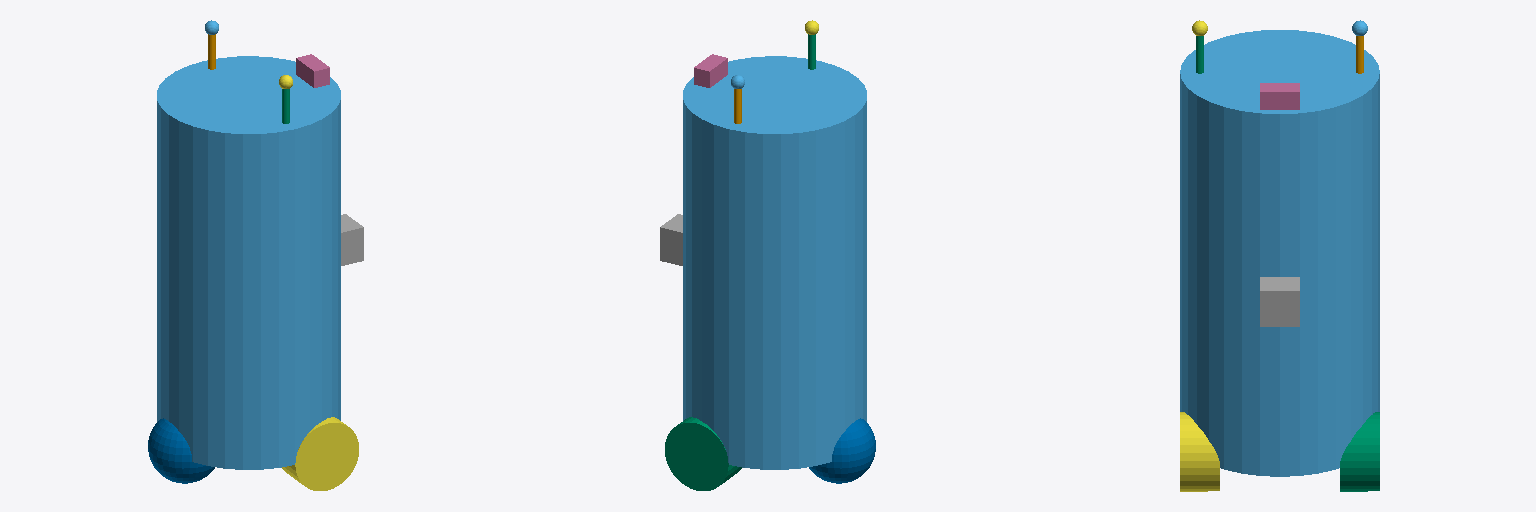
URDF robot description (mooncake):

<robot name="mooncake">

<link name="base_footprint"/>

<link name="base_link">
	<pose> 0 0 0 0 0 0</pose>
	<collision>
      		<origin xyz="0 0 0.5" rpy="0 0 0" />
      		<geometry>
        		<cylinder length="1" radius="0.25"/>
      		</geometry>
      	</collision>
        <visual>
          <origin xyz="0 0 0.5" rpy="0 0 0" />
          <geometry>
            	<cylinder length="1" radius="0.25"/>
          </geometry>
          <material name="blue"/>
        </visual>
        <inertial>
           	<mass value="5" />
            	<origin xyz="0 0 0.5" rpy="0 0 0" />
            	<inertia ixx="0.49" ixy="0" ixz="0" 
            	iyy="0.49" iyz="0" 
            	izz="0.16" />
       </inertial>
      </link>
      
      <link name="left_Wheel">
	<collision>
      		<geometry>
        		<cylinder length="0.1" radius="0.1"/>
      		</geometry>
			<surface>
             <contact>
              <ode>
                <soft_cfm>0</soft_cfm>
                <soft_erp>0.2</soft_erp>
                <kp>1e+5</kp>
                <kd>1</kd>
                <max_vel>0.01</max_vel>
                <min_depth>0.001</min_depth>
              </ode>
             </contact>
            </surface>
      	</collision>
        <visual>
          	<geometry>
            		<cylinder length="0.1" radius="0.1"/>
            		<material name="white"/>
          	</geometry>
        </visual>
        <inertial>
            	<mass value="2" />
            	<inertia ixx="0.007" ixy="0" ixz="0" 
            	iyy="0.007" iyz="0" 
            	izz="0.01" />
       </inertial>
      </link>
      
      <link name="right_Wheel">
	<collision>
      		<geometry>
        		<cylinder length="0.1" radius="0.1"/>
      		</geometry>
			<surface>
             <contact>
              <ode>
                <soft_cfm>0</soft_cfm>
                <soft_erp>0.2</soft_erp>
                <kp>1e+5</kp>
                <kd>1</kd>
                <max_vel>0.01</max_vel>
                <min_depth>0.001</min_depth>
              </ode>
             </contact>
            </surface>
    </collision>
        <visual>
          	<geometry>
            		<cylinder length="0.1" radius="0.1"/>
            		<material name="white"/>
          	</geometry>
        </visual>
        <inertial>
            	<mass value="2" />
            	<inertia ixx="0.007" ixy="0" ixz="0" 
            	iyy="0.007" iyz="0" 
            	izz="0.01" />
       </inertial>
      </link>
      
      <link name="sphere_Wheel">
	<collision>
      		<geometry>
        		<sphere radius="0.1"/>
      		</geometry>
		    <surface>
             <contact>
              <ode>
                <soft_cfm>0</soft_cfm>
                <soft_erp>0.2</soft_erp>
                <kp>1e+5</kp>
                <kd>1</kd>
                <max_vel>0.01</max_vel>
                <min_depth>0.001</min_depth>
              </ode>
             </contact>
            </surface>
      	</collision>
        <visual>
          	<geometry>
            		<sphere radius="0.1"/>
            		<material name="blue"/>
          	</geometry>
        </visual>
        <inertial>
            	<mass value="5" />
            	<inertia ixx="0.02" ixy="0" ixz="0" 
            	iyy="0.02" iyz="0" 
            	izz="0.02" />
       </inertial>
      </link>
      
      <link name='imu_link'>
      <collision>
      		<geometry>
        		<box size="0.1 0.1 0.1"/>
      		</geometry>
      	</collision>
      	<inertial>
      		<mass value="0.2"/>
      		<origin xyz="0 0 0.2" rpy=" 0 0 0"/>
	      	<inertia ixx="0.00033" ixy="0.0" ixz="0" iyy="0.00033" iyz="0" izz="0.00033" />
     	</inertial>
    	<visual >
      		<origin xyz="0 0 0.2" rpy=" 0 0 0"/>
      		<geometry>
        		<box size="0.1 0.1 0.1"/>
      		</geometry>
    	</visual>
      </link>
      
      <link name='camera_link'>
      <collision>
      		<geometry>
        		<box size="0.05 0.1 0.05"/>
      		</geometry>
      	</collision>
      	<inertial>
      		<mass value="0.5"/>
      		<origin xyz="0 0 0" rpy=" 0 0 0"/>
	      	<inertia ixx="0.01" ixy="0.0" ixz="0" iyy="0.02" iyz="0" izz="0.01" />
     	</inertial>
    	<visual >
      		<origin xyz="0 0 0" rpy=" 0 0 0"/>
      		<geometry>
        		<box size="0.05 0.1 0.05"/>
      		</geometry>
    	</visual>
      </link>
      
      <link name='laser_link'>
      <collision>
      		<geometry>
        		<box size="0.1 0.1 0.1"/>
      		</geometry>
      	</collision>
      	<inertial>
      		<mass value="0.5"/>
      		<origin xyz="0 0 0" rpy=" 0 0 0"/>
	      	<inertia ixx="0.00033" ixy="0.0" ixz="0" iyy="0.00033" iyz="0" izz="0.00033" />
     	</inertial>
    	<visual >
      		<origin xyz="0 0 0" rpy=" 0 0 0"/>
      		<geometry>
        		<box size="0.1 0.1 0.1"/>
      		</geometry>
    	</visual>
      </link>
      
      <link name='lrod_link'>
      <collision>
      		<geometry>
        		<cylinder length="0.2" radius="0.01"/>
      		</geometry>
      	</collision>
      	<inertial>
      		<mass value="0.1"/>
      		<origin xyz="0 0 0" rpy=" 0 0 0"/>
	      	<inertia ixx="1e-6" ixy="0.0" ixz="0" iyy="1e-6" iyz="0" izz="1e-6" />
     	</inertial>
    	<visual >
      		<origin xyz="0 0 0" rpy=" 0 0 0"/>
      		<geometry>
        		<cylinder length="0.2" radius="0.01"/>
      		</geometry>
    	</visual>
      </link>
      
      <link name="lsphere_link">
	<collision>
      		<geometry>
        		<sphere radius="0.02"/>
      		</geometry>
   
      	</collision>
        <visual>
          	<geometry>
            		<sphere radius="0.02"/>
          	</geometry>
        </visual>
        <inertial>
            	<mass value="0.1" />
            	<inertia ixx="1e-6" ixy="0" ixz="0" 
            	iyy="1e-6" iyz="0" 
            	izz="1e-6" />
       </inertial>
      </link>
      
      <link name='rrod_link'>
      <collision>
      		<geometry>
        		<cylinder length="0.2" radius="0.01"/>
      		</geometry>
      	</collision>
      	<inertial>
      		<mass value="0.1"/>
      		<origin xyz="0 0 0" rpy=" 0 0 0"/>
	      	<inertia ixx="1e-6" ixy="0.0" ixz="0" iyy="1e-6" iyz="0" izz="1e-6" />
     	</inertial>
    	<visual >
      		<origin xyz="0 0 0" rpy=" 0 0 0"/>
      		<geometry>
        		<cylinder length="0.2" radius="0.01"/>
      		</geometry>
    	</visual>
      </link>
      
      <link name="rsphere_link">
	<collision>
      		<geometry>
        		<sphere radius="0.02"/>
      		</geometry>
   
      	</collision>
        <visual>
          	<geometry>
            		<sphere radius="0.02"/>
          	</geometry>
        </visual>
        <inertial>
            	<mass value="0.1" />
            	<inertia ixx="1e-6" ixy="0" ixz="0" 
            	iyy="1e-6" iyz="0" 
            	izz="1e-6" />
       </inertial>
      </link>
      
	  <joint name="base_joint" type="fixed">
	        <origin xyz="0 0 0" rpy="0 0 0"/>
			<parent link="base_footprint"/>
			<child link="base_link"/>
      </joint>

      <joint name ="lrod_joint" type="fixed">
      		<origin xyz="0 0.20 1.02" rpy="0 0 0"/>
      		<parent link="base_link"/>
        	<child link="lrod_link"/>
      </joint>
      
       <joint name ="lsphere_joint" type="fixed">
      		<origin xyz="0 0 0.1" rpy="0 0 0"/>
      		<parent link="lrod_link"/>
        	<child link="lsphere_link"/>
      </joint>
      
      <joint name ="rrod_joint" type="fixed">
      		<origin xyz="0 -0.20 1.02" rpy="0 0 0"/>
      		<parent link="base_link"/>
        	<child link="rrod_link"/>
      </joint>
      
       <joint name ="rsphere_joint" type="fixed">
      		<origin xyz="0 0 0.1" rpy="0 0 0"/>
      		<parent link="rrod_link"/>
        	<child link="rsphere_link"/>
      </joint>
      
      <joint name ="left_wheel_joint" type="continuous">
      		<origin xyz="0.1 0.2 0" rpy="-1.57 0 0"/>
      		<parent link="base_link"/>
        	<child link="left_Wheel"/>
        	<axis  xyz="0 0 1" />
      </joint>
      
      <joint name ="right_wheel_joint" type="continuous">
      		<origin xyz="0.1 -0.2 0" rpy="-1.57 0 0"/>
      		<parent link="base_link"/>
        	<child link="right_Wheel"/>
        	<axis  xyz="0 0 1" />
      </joint>
      
      <joint name ="sphere_wheel_joint" type="fixed">
      		<origin xyz="-0.2 0 0" rpy="0 0 0"/>
      		<parent link="base_link"/>
        	<child link="sphere_Wheel"/>
        	
      </joint>
      
       <joint name="imu_joint" type="fixed">
          <origin xyz="0 0 0" rpy="0 0 0"/>
	  <parent link="base_link"/>
	  <child link="imu_link"/>
	</joint>
       
       <joint name="camera_joint" type="fixed">
          <origin xyz="0.2 0 1.025" rpy="0 0 0"/>
	  <parent link="base_link"/>
	  <child link="camera_link"/>
	</joint>
	
	<joint name="laser_joint" type="fixed">
          <origin xyz="0.28 0 0.5" rpy="0 0 0"/>
	  <parent link="base_link"/>
	  <child link="laser_link"/>
	</joint>
	
	<!-- imu -->
	<gazebo reference="imu_link">
	   <gravity>true</gravity>
	   <sensor name="imu_sensor" type="imu">
	       <always_on>true</always_on>
	       <update_rate>20</update_rate>
	       <visualize>true</visualize>
	       <topic>__default_topic__</topic>
	    <plugin filename="libgazebo_ros_imu_sensor.so" name="imu_plugin">
	    	<ros>
        		<namespace>/demo</namespace>
        		<remapping>~/out:=imu</remapping>
      		</ros>
		<topicName>imu</topicName>
		<bodyName>imu_link</bodyName>
		<updateRateHZ>20.0</updateRateHZ>
		<gaussianNoise>0.0</gaussianNoise>
		<xyzOffset>0 0 0</xyzOffset>
		<rpyOffset>0 0 0</rpyOffset>
		<frameName>imu_link</frameName>
		<initialOrientationAsReference>false</initialOrientationAsReference>
	     </plugin>
	        <pose>0 0 0 0 0 0</pose>
	    </sensor>
  	</gazebo>
  	
  	<!-- camera -->
	  <gazebo reference="camera_link">
	    <sensor type="camera" name="camera1">
	      <update_rate>30.0</update_rate>
	      <camera name="head">
		<horizontal_fov>1.3962634</horizontal_fov>
		<image>
		  <width>800</width>
		  <height>800</height>
		  <format>R8G8B8</format>
		</image>
		<clip>
		  <near>0.02</near>
		  <far>300</far>
		</clip>
		<noise>
		  <type>gaussian</type>
		  <!-- Noise is sampled independently per pixel on each frame.
		       That pixel's noise value is added to each of its color
		       channels, which at that point lie in the range [0,1]. -->
		  <mean>0.0</mean>
		  <stddev>0.007</stddev>
		</noise>
	      </camera>
	      <plugin name="camera_controller" filename="libgazebo_ros_camera.so">
		<alwaysOn>true</alwaysOn>
		<updateRate>0.0</updateRate>
		<cameraName>mooncake/camera1</cameraName>
		<imageTopicName>image_raw</imageTopicName>
		<cameraInfoTopicName>camera_info</cameraInfoTopicName>
		<frameName>camera_link</frameName>
		<hackBaseline>0.07</hackBaseline>
		<distortionK1>0.0</distortionK1>
		<distortionK2>0.0</distortionK2>
		<distortionK3>0.0</distortionK3>
		<distortionT1>0.0</distortionT1>
		<distortionT2>0.0</distortionT2>
	      </plugin>
	    </sensor>
	  </gazebo>
  	
  	 <!-- hokuyo laser-->
	    <gazebo reference="laser_link">
		<sensor type="ray" name="head_hokuyo_sensor">
		    <pose>0 0 0 0 0 0</pose>
		    <visualize>true</visualize>
		    <update_rate>40</update_rate>
		    <ray>
		        <scan>
		            <horizontal>
		                <samples>720</samples>
		                <resolution>1</resolution>
		                <min_angle>-1.57</min_angle>
		                <max_angle>1.57</max_angle>
		            </horizontal>
		        </scan>
		        <range>
		            <min>0.12</min>
		            <max>10</max>
		            <resolution>0.01</resolution>
		        </range>
		        <noise>
		            <type>gaussian</type>
		            <!-- Noise parameters based on published spec for Hokuyo laser
		                 achieving "+-30mm" accuracy at range < 10m.  A mean of 0.0m and
		                 stddev of 0.01m will put 99.7% of samples within 0.03m of the true
		                 reading. -->
		            <mean>0.0</mean>
		            <stddev>0.01</stddev>
		        </noise>
		    </ray>
		    <plugin name="lidar_controller" filename="libgazebo_ros_ray_sensor.so">
		        <ros>
		            <remapping>~/out:=scan</remapping>
		        </ros>
		        <output_type>sensor_msgs/LaserScan</output_type>
				<radiation_type>infrared</radiation_type>
		        <frameName>laser_link</frameName>
		    </plugin>
		</sensor>
	    </gazebo>
  	
  	
  	<!-- colour -->
  	<gazebo reference="sphere_Wheel">
	    <material>Gazebo/White</material>
	    	<mu1 value="0.0"/>
    		<mu2 value="0.0"/>
	</gazebo>
	<gazebo reference="camera_link">
	    <material>Gazebo/White</material>
	</gazebo>
	<gazebo reference="base_link">
	    <material>Gazebo/Green</material>
	</gazebo>
	<gazebo reference="laser_link">
	    <material>Gazebo/White</material>
	</gazebo>
	<gazebo reference="lrod_link">
	    <material>Gazebo/Green</material>
	</gazebo>
	<gazebo reference="lsphere_link">
	    <material>Gazebo/Green</material>
	</gazebo>
	<gazebo reference="rrod_link">
	    <material>Gazebo/Green</material>
	</gazebo>
	<gazebo reference="rsphere_link">
	    <material>Gazebo/Green</material>
	</gazebo>
  	
  	<!-- diff_drive -->
  	<gazebo>
	  <plugin name='diff_drive' filename='libgazebo_ros_diff_drive.so'>
	   <updateRate>100</updateRate>
	    <!-- wheels -->
	    <left_joint>left_wheel_joint</left_joint>
	    <right_joint>right_wheel_joint</right_joint>

	    <!-- kinematics -->
	    <wheel_separation>0.4</wheel_separation>
	    <wheel_diameter>0.1</wheel_diameter>

	    <!-- limits -->
	    <max_wheel_torque>2</max_wheel_torque>
	    <max_wheel_acceleration>0.5</max_wheel_acceleration>
	    <commandTopic>cmd_vel</commandTopic>
	    <!-- output -->
		<!-- <odometry_frame>odom</odometry_frame>
	    <robot_base_frame>base_footprint</robot_base_frame> -->
	    <publish_odom>true</publish_odom>
	    <publish_odom_tf>true</publish_odom_tf>
	    <publish_wheel_tf>true</publish_wheel_tf>
		<odometryTopic>odom</odometryTopic>

		<!-- Odometry frame, defaults to `odom` -->
		<odometryFrame>odom</odometryFrame>
		<!-- Robot frame to calculate odometry from, defaults to `base_footprint` -->
		<robotBaseFrame>base_footprint</robotBaseFrame>
		<odometryFrame>world</odometryFrame>
        <odometryRate>20.0</odometryRate>

	  </plugin>

	</gazebo>
</robot>

--- Facts derived from the render (not from the file) ---
The picture shows the robot from 3 angles, left to right: view 1: azimuth 30°, elevation 25°; view 2: azimuth 150°, elevation 25°; view 3: azimuth 270°, elevation 25°; orthographic projection.
Robot: mooncake — 12 links, 11 joints (2 continuous, 9 fixed); root link base_footprint; default pose: all joints at 0.
Links seen in each view (by area): view 1: base_link, right_Wheel, sphere_Wheel, laser_link, camera_link; view 2: base_link, left_Wheel, sphere_Wheel, laser_link, camera_link; view 3: base_link, left_Wheel, right_Wheel, laser_link, camera_link.
Link boxes in pixels (x1,y1,x2,y2): base_link: [157, 56, 340, 469]; right_Wheel: [282, 417, 358, 490]; sphere_Wheel: [148, 418, 214, 483]; laser_link: [341, 214, 363, 265]; camera_link: [296, 54, 329, 87]; base_link: [683, 56, 866, 469]; left_Wheel: [665, 417, 741, 490]; sphere_Wheel: [809, 418, 875, 483]; laser_link: [660, 214, 682, 265]; camera_link: [694, 54, 727, 87]; base_link: [1180, 30, 1379, 476]; left_Wheel: [1340, 412, 1379, 491]; right_Wheel: [1180, 412, 1219, 491]; laser_link: [1260, 277, 1299, 326]; camera_link: [1260, 83, 1299, 109].
Size in the robot's own frame: 0.63 by 0.5002 by 1.24 metres.
Geometry: primitives only (box / cylinder / sphere), no mesh files.
